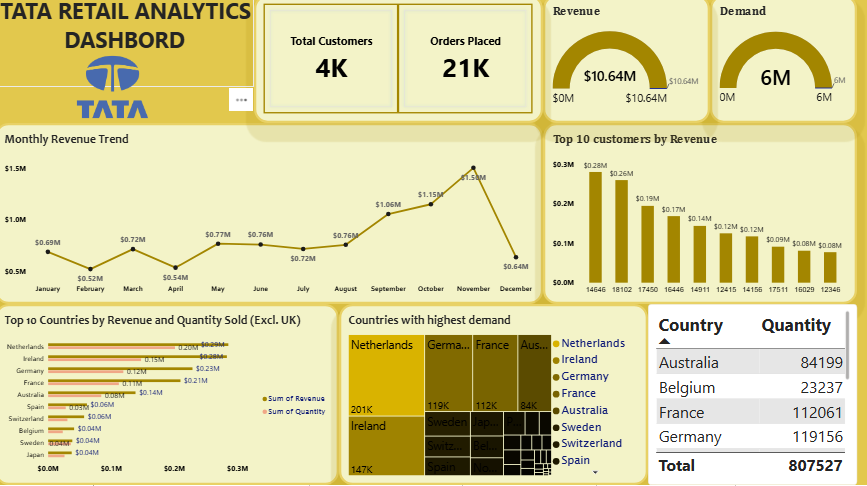

What the dashboard file says about the page in this screenshot:
{"tool":"powerbi","page":{"name":"Retail_Sales_Analytics_Dashbord","canvas":[1920,1080],"ordinal":0},"visuals":[{"type":"lineChart","title":"Monthly Revenue Trend","fields":{"Category":["Online Retail.InvoiceDate.Variation.Date Hierarchy.Year","Online Retail.InvoiceDate.Variation.Date Hierarchy.Quarter","Online Retail.InvoiceDate.Variation.Date Hierarchy.Month"],"Y":["Sum(Online Retail.Revenue)"]},"box":[0,282.1,1207.8,398.9],"z":0},{"type":"clusteredBarChart","title":"Top 10 Countries by Revenue and Quantity Sold (Excl. UK)","fields":{"Category":["Online Retail.Country"],"Y":["Sum(Online Retail.Revenue)","Sum(Online Retail.Quantity)"]},"box":[0,681.1,758.2,398.9],"z":1},{"type":"columnChart","title":"Top 10 customers by Revenue","fields":{"Category":["Online Retail.CustomerID"],"Y":["Sum(Online Retail.Revenue)"]},"box":[1207.8,282.1,692.1,398.9],"z":2},{"type":"treemap","title":"Countries with highest demand","fields":{"Group":["Online Retail.Country"],"Values":["Sum(Online Retail.Quantity)"]},"box":[758.2,681.1,681.1,398.9],"z":3},{"type":"tableEx","fields":{"Values":["Online Retail.Country","Sum(Online Retail.Quantity)"]},"box":[1439.3,681.1,460.7,398.9],"z":4},{"type":"gauge","title":"Demand","fields":{"Y":["Measures_table.Total Quantity"]},"box":[1575.9,0,324,282.1],"z":5},{"type":"gauge","title":" Revenue","fields":{"Y":["Measures_table.Total Revenue"]},"box":[1207.8,0,368.1,282.1],"z":6},{"type":"cardVisual","fields":{"Data":["Measures_table.Number of Customers","Measures_table.Total Orders Placed"]},"box":[570.9,0,637,282.1],"z":7},{"type":"textbox","box":[0,0,570.9,202.8],"z":8},{"type":"image","box":[119,125.6,279.9,154.3],"z":9}]}

Visuals, with their boxes in screenshot pixels (x1, y1, x2, y2), scaled from the page's 1920x1080 canvas onto the 867x486 screenshot:
"Monthly Revenue Trend" lineChart: x1=0, y1=127, x2=545, y2=306
"Top 10 Countries by Revenue and Quantity Sold (Excl. UK)" clusteredBarChart: x1=0, y1=306, x2=342, y2=485
"Top 10 customers by Revenue" columnChart: x1=545, y1=127, x2=858, y2=306
"Countries with highest demand" treemap: x1=342, y1=306, x2=650, y2=485
tableEx - Online Retail.Country x Sum(Online Retail.Quantity): x1=650, y1=306, x2=858, y2=485
"Demand" gauge: x1=712, y1=0, x2=858, y2=127
" Revenue" gauge: x1=545, y1=0, x2=712, y2=127
cardVisual - Measures_table.Number of Customers x Measures_table.Total Orders Placed: x1=258, y1=0, x2=545, y2=127
textbox: x1=0, y1=0, x2=258, y2=91
image: x1=54, y1=57, x2=180, y2=126
